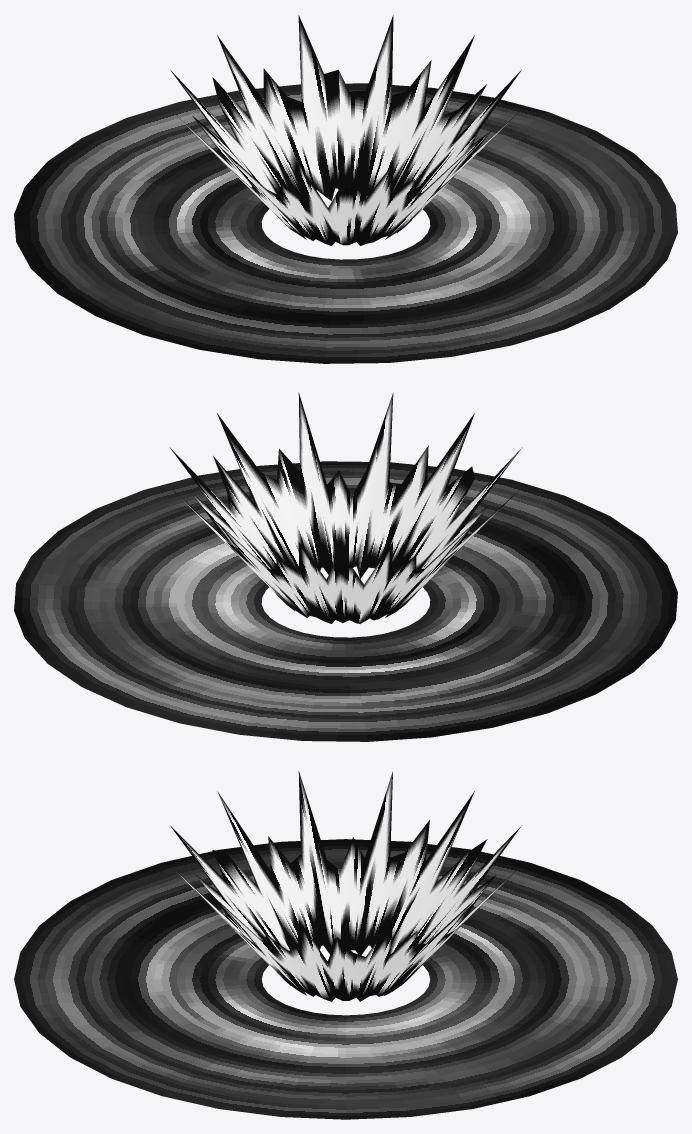
Rendered from EffCommonLandingSmokeS.obj.
The picture shows the model from 3 angles, top to bottom: view 1: azimuth 30°, elevation 25°; view 2: azimuth 150°, elevation 25°; view 3: azimuth 270°, elevation 25°; orthographic projection.
Visible parts, largest first — view 1: polygon1, polygon0; view 2: polygon1, polygon0; view 3: polygon1, polygon0.
Boxes of the visible parts, x1,y1,x2,y2 form: polygon1: (14,83,677,363); polygon0: (170,15,521,245); polygon1: (14,461,677,741); polygon0: (169,392,522,623); polygon1: (14,839,677,1119); polygon0: (170,771,521,1001).
Bounding box in the file's own units: 18.11 × 4.06 × 18.11.
Materials: 2 (2 with a texture image).
